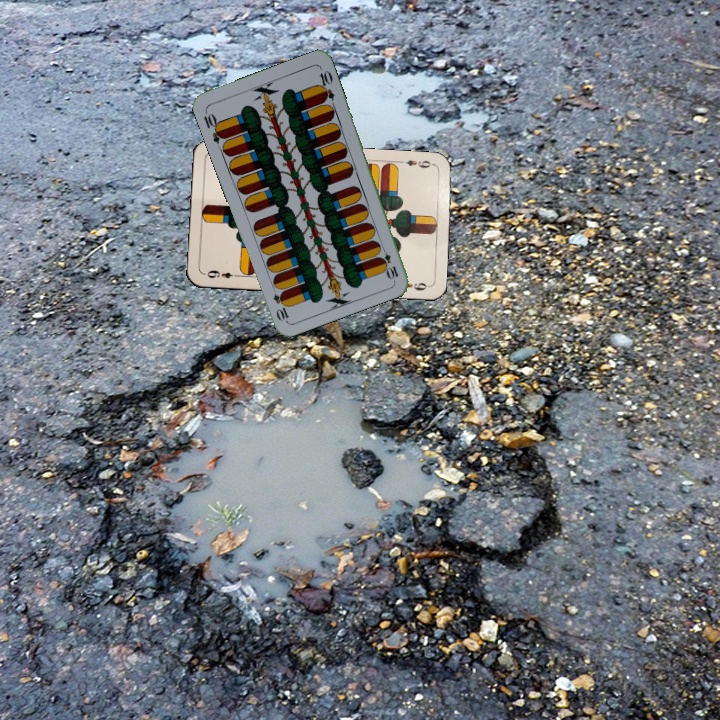E10: (200, 107, 227, 146), (376, 242, 401, 282)
E9: (201, 266, 242, 281), (396, 156, 437, 171)
